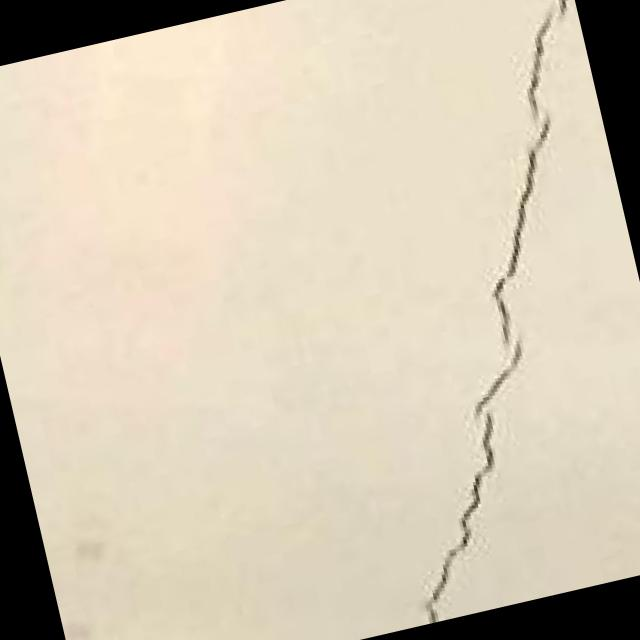crack: (242, 0, 640, 630)
